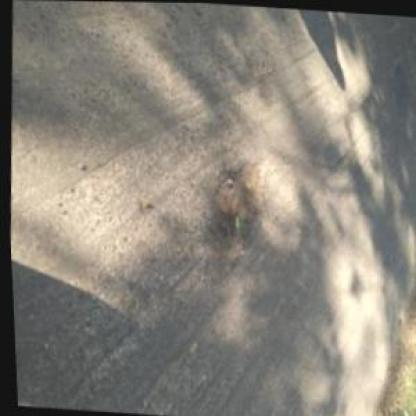pothole: (190, 155, 270, 290)
